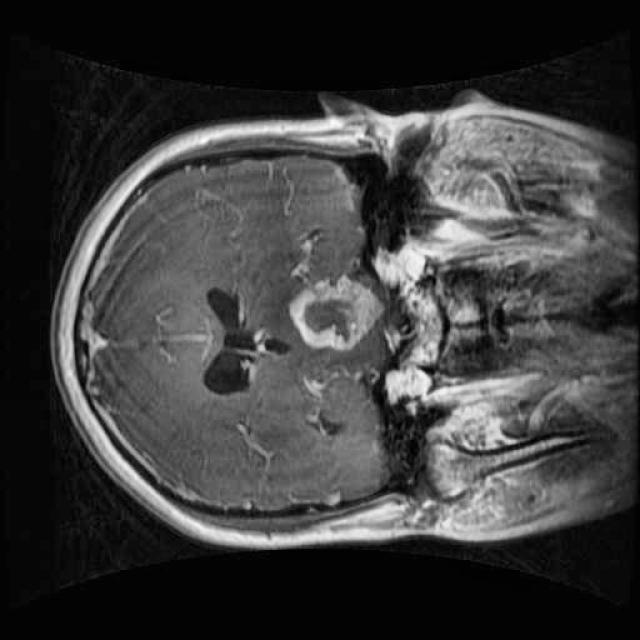Tumor: (284, 260, 392, 364)
